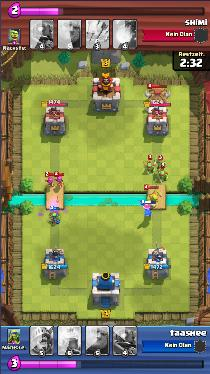ally_goblin_cage: (145, 191, 162, 203)
ally_spear_goblin: (50, 212, 61, 225)
ally_valkyrie: (139, 199, 155, 216)
enemy_archer: (43, 177, 55, 188), (56, 176, 66, 187)
enemy_goblin_hut: (142, 89, 171, 107)
enemy_spear_goblin: (155, 170, 169, 184), (143, 159, 155, 174), (156, 159, 167, 171)
